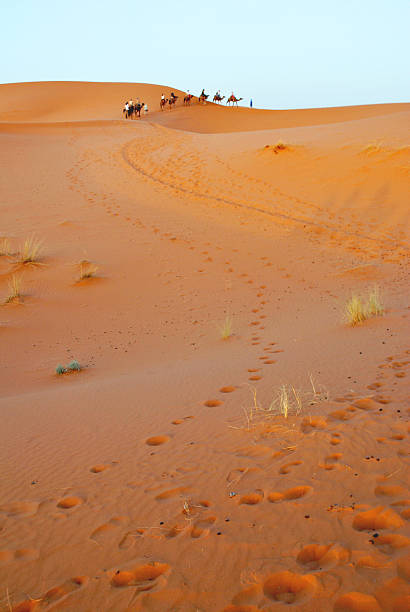human_foot_print: (223, 570, 319, 611), (144, 490, 216, 539), (10, 576, 88, 611), (107, 561, 170, 603), (262, 570, 318, 604), (296, 543, 350, 570), (227, 467, 264, 505), (182, 499, 216, 538), (352, 505, 403, 530), (90, 516, 127, 542), (333, 591, 381, 611), (267, 485, 312, 502), (267, 469, 303, 490), (118, 526, 148, 549), (0, 501, 39, 517), (0, 548, 39, 564), (190, 515, 216, 538), (235, 444, 274, 458), (155, 485, 191, 500), (301, 415, 327, 433), (238, 488, 263, 505), (318, 453, 342, 470), (57, 495, 84, 509), (328, 406, 355, 420), (90, 460, 118, 473), (278, 460, 301, 474), (145, 434, 169, 445), (171, 415, 193, 424), (330, 432, 342, 445), (203, 399, 222, 406), (219, 385, 235, 393), (248, 373, 262, 381), (247, 368, 259, 373), (263, 359, 275, 364)
